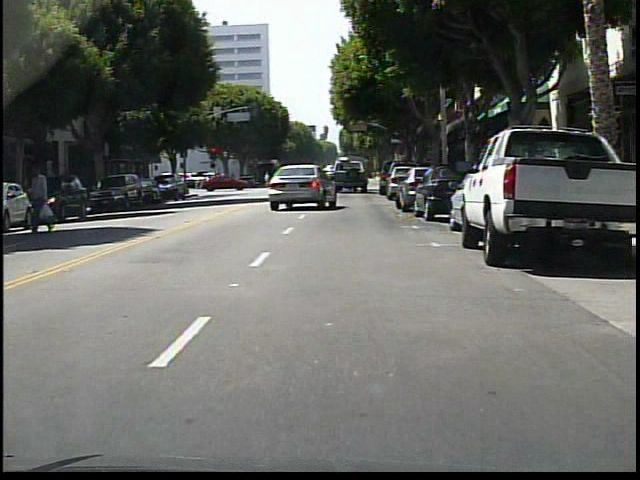person: (32, 162, 56, 236), (286, 169, 297, 192), (307, 167, 315, 191), (263, 171, 271, 186)
